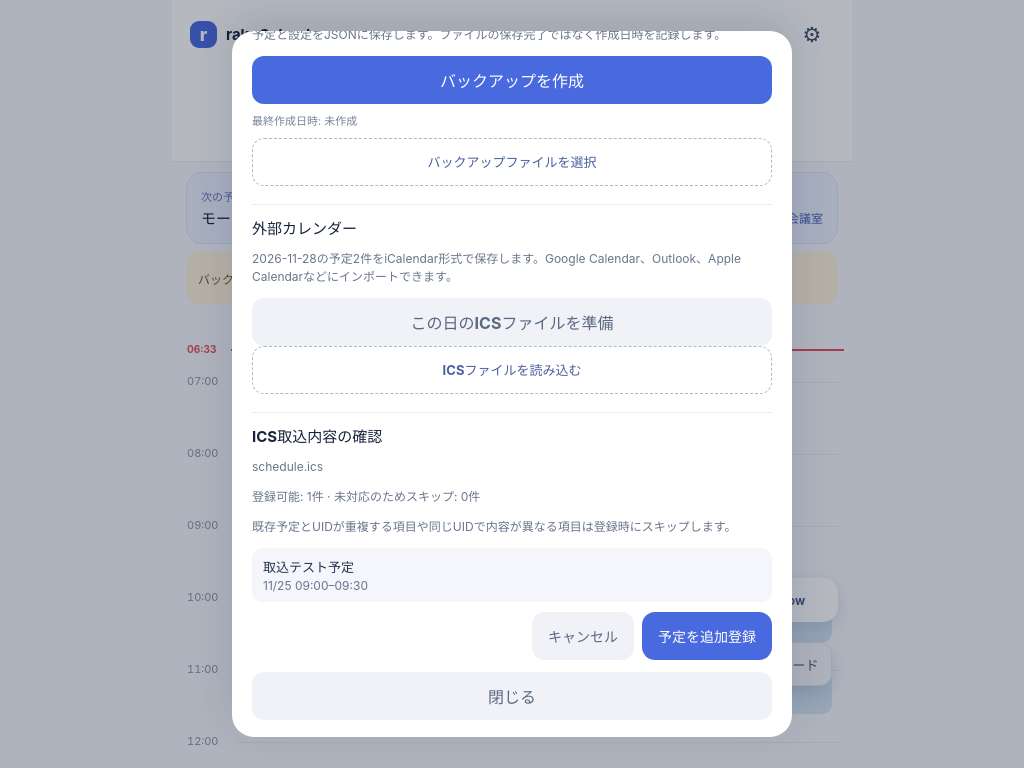
calendar viewing and editing modes › previews an ICS file and registers its events without replacing existing appointments
Earlier steps of the test are not shown.
(page scrolled)
Expected: the element with class "ical-preview" shows "登録可能: 1件", 252,412 -> 772,660
Expected: the element with class "ical-preview" shows "取込テスト予定", 263,559 -> 354,575
Click the button "予定を追加登録" at coordinates (707, 636), box 642,612 -> 772,660
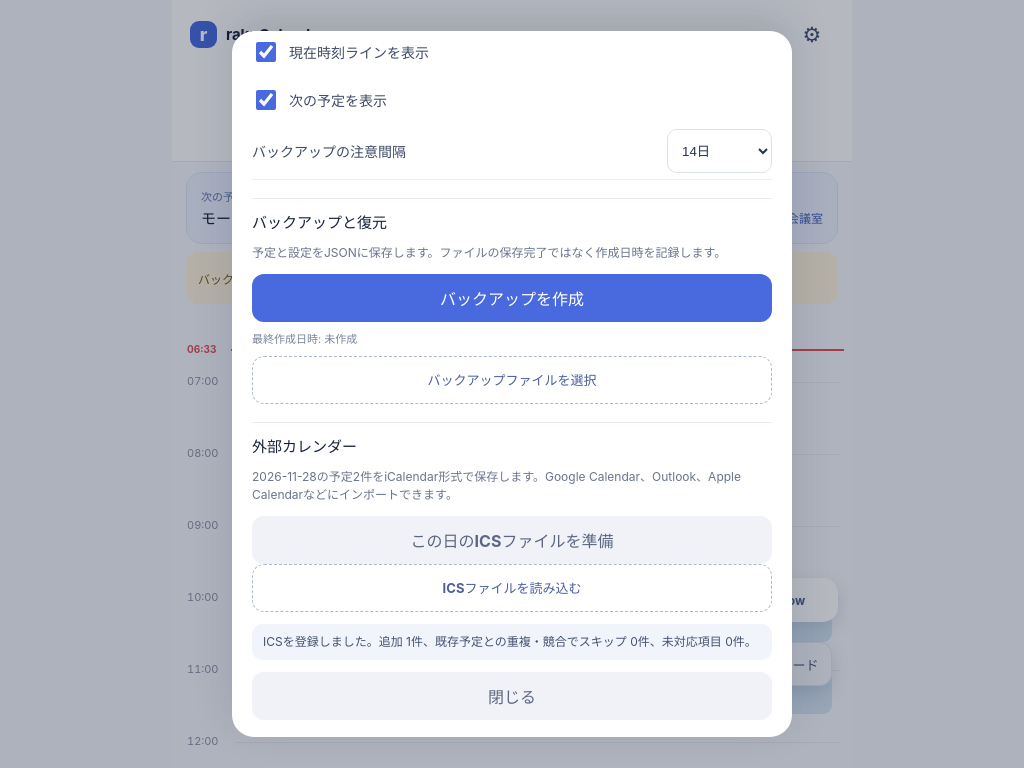
Result: the element with class "ical-preview" is gone
Result: the text "追加 1件" is shown at 263,634 -> 757,649
